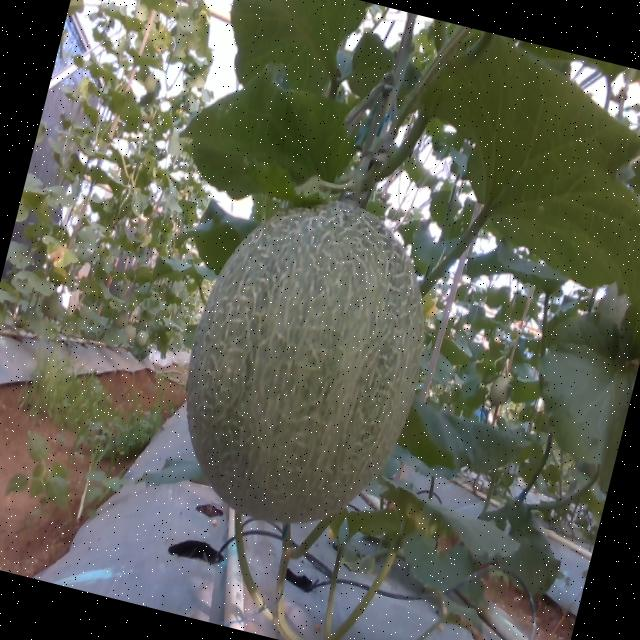melon: (187, 202, 423, 523)
